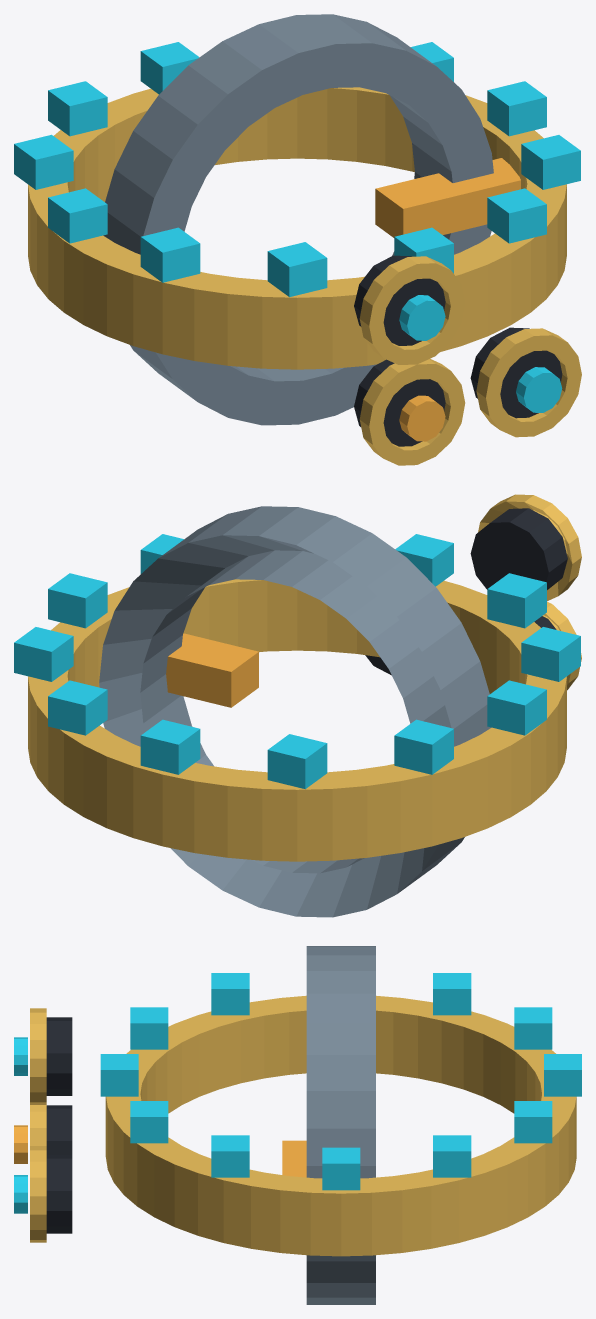
File: 36_L82_TurntableAzimuthEncoder.fbx
The picture shows the model from 3 angles, top to bottom: view 1: azimuth 30°, elevation 25°; view 2: azimuth 150°, elevation 25°; view 3: azimuth 270°, elevation 25°; orthographic projection. The views are drawn at different scales.
Parts seen in each view (by area): view 1: TurntableAzimuthEncoder, TurntableAzimuthEncoder_Part_0013, TurntableAzimuthEncoder_Part_0014; view 2: TurntableAzimuthEncoder, TurntableAzimuthEncoder_Part_0013, TurntableAzimuthEncoder_Part_0014; view 3: TurntableAzimuthEncoder, TurntableAzimuthEncoder_Part_0013, TurntableAzimuthEncoder_Part_0014.
Part boxes in pixels (x1=…): TurntableAzimuthEncoder: x1=14, y1=42, x2=581, y2=465; TurntableAzimuthEncoder_Part_0013: x1=103, y1=14, x2=493, y2=425; TurntableAzimuthEncoder_Part_0014: x1=375, y1=158, x2=520, y2=237; TurntableAzimuthEncoder: x1=14, y1=494, x2=581, y2=861; TurntableAzimuthEncoder_Part_0013: x1=99, y1=506, x2=491, y2=917; TurntableAzimuthEncoder_Part_0014: x1=166, y1=633, x2=258, y2=707; TurntableAzimuthEncoder: x1=14, y1=973, x2=581, y2=1256; TurntableAzimuthEncoder_Part_0013: x1=306, y1=946, x2=375, y2=1304; TurntableAzimuthEncoder_Part_0014: x1=282, y1=1140, x2=306, y2=1177.
Bounding box in the file's own units: 69.5 × 51.72 × 82.
